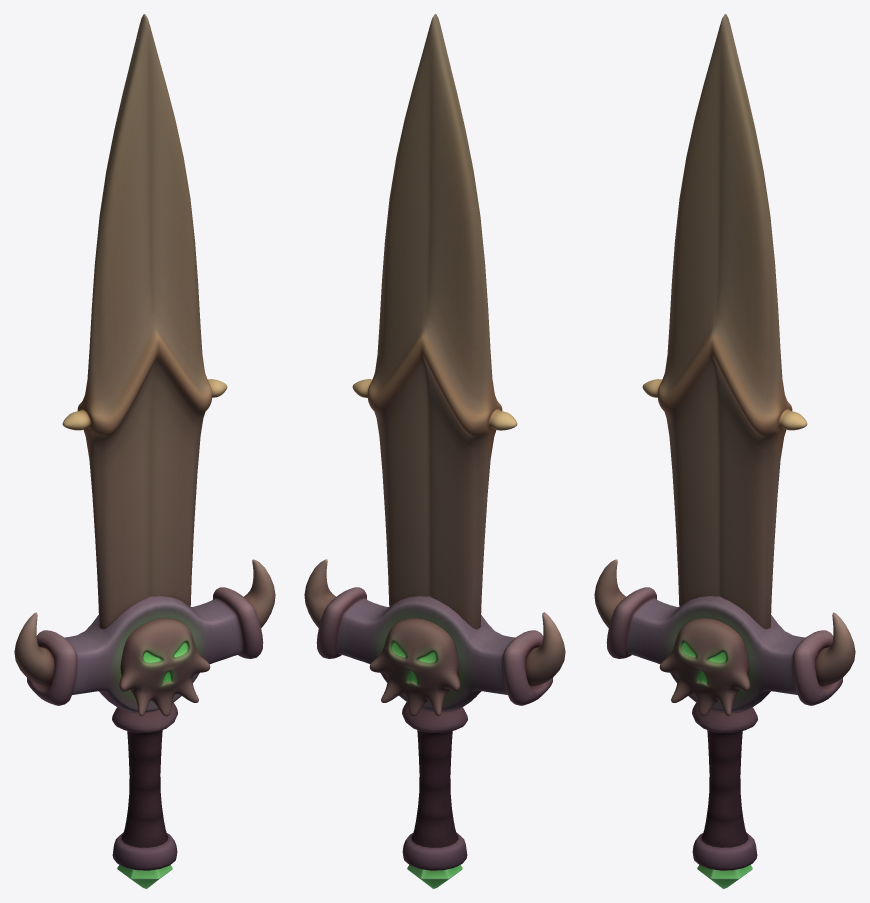
The model's file is Sword02.fbx.
The picture shows the model from 3 angles, left to right: view 1: azimuth 30°, elevation 25°; view 2: azimuth 150°, elevation 25°; view 3: azimuth 330°, elevation 25°; orthographic projection.
Visible parts, largest first — view 1: Sword02; view 2: Sword02; view 3: Sword02.
Boxes of the visible parts, x1,y1,x2,y2 form: Sword02: [14, 14, 275, 888]; Sword02: [304, 14, 565, 888]; Sword02: [594, 14, 855, 888].
Bounding box in the file's own units: 26.32 × 85.35 × 8.81.
